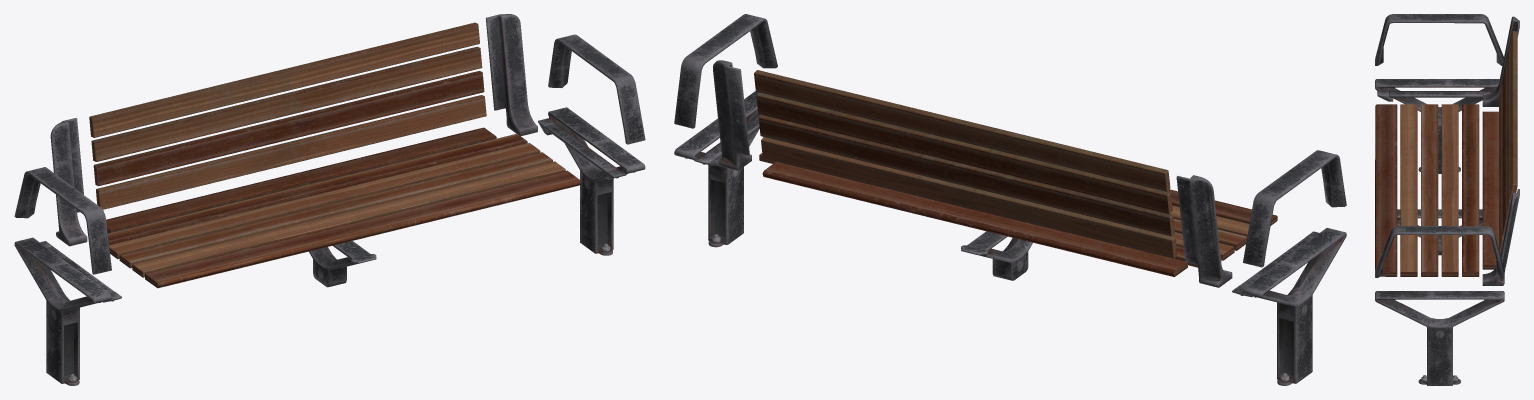
File: bench.glb
3 renders of one model, left to right at view 1: azimuth 30°, elevation 25°; view 2: azimuth 150°, elevation 25°; view 3: azimuth 270°, elevation 25°, orthographic. The views are drawn at different scales.
Parts seen in each view (by area): view 1: seat_back, seat, legs_single, legs_single_b, back_support_l, arm_rest_01_b, arm_rest_01, back_support_r, suspended_support_01; view 2: seat_back, seat, legs_single, legs_single_b, arm_rest_01, back_support_r, arm_rest_01_b, back_support_l, suspended_support_01; view 3: seat, legs_single_b, seat_back, legs_single, arm_rest_01, arm_rest_01_b, back_support_l, back_support_r, suspended_support_01.
Part boxes in pixels (x1,y1,x2,y2): seat_back: (89,22,486,209); seat: (106,127,580,288); legs_single: (14,237,121,385); legs_single_b: (538,107,645,255); back_support_l: (485,14,537,135); arm_rest_01_b: (548,34,645,144); arm_rest_01: (14,167,111,274); back_support_r: (50,118,87,246); suspended_support_01: (309,241,376,287); seat_back: (754,70,1177,258); seat: (759,153,1277,276); legs_single: (1232,228,1346,385); legs_single_b: (674,91,760,247); arm_rest_01: (1243,150,1346,267); back_support_r: (1176,175,1232,287); arm_rest_01_b: (674,14,777,128); back_support_l: (713,60,751,170); suspended_support_01: (961,231,1032,280); seat: (1375,104,1498,276); legs_single_b: (1375,291,1504,385); seat_back: (1499,31,1517,254); legs_single: (1375,79,1499,173); arm_rest_01: (1375,14,1503,65); arm_rest_01_b: (1375,226,1504,277); back_support_l: (1482,189,1519,285); back_support_r: (1482,16,1519,106); suspended_support_01: (1397,209,1482,255).
Bounding box in the file's own units: 2.4 × 0.8669 × 0.6704.
3 materials, 3 textured.
